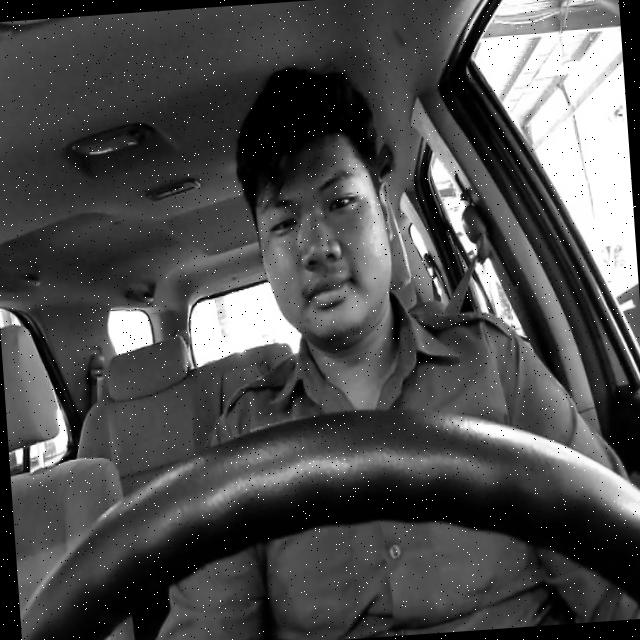focused: (249, 130, 399, 348)
